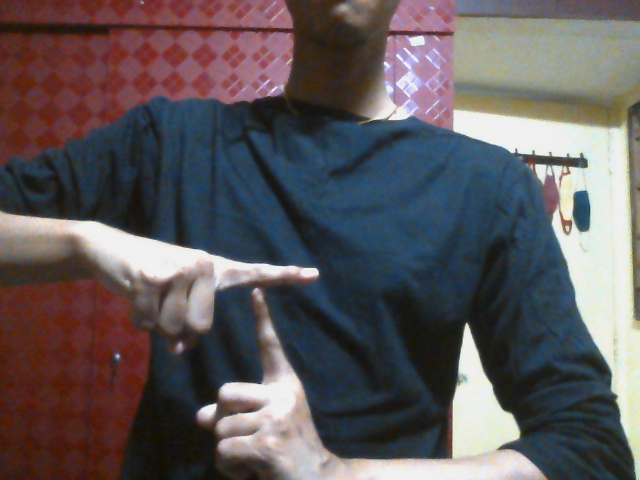T: (115, 226, 322, 480)
